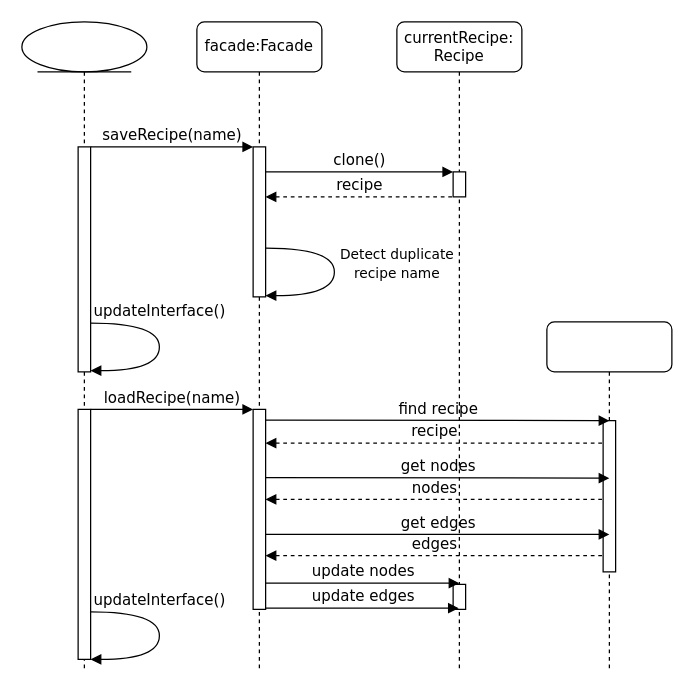
Some shapes in this 694 by 694 pixel diagram are drawn without their labels. The box of each missing label's shape, as (x1, y1, x2, y2) in pixels:
foundRecipe: Recipe: (546, 321, 672, 672)
Renderer: (21, 21, 147, 672)
